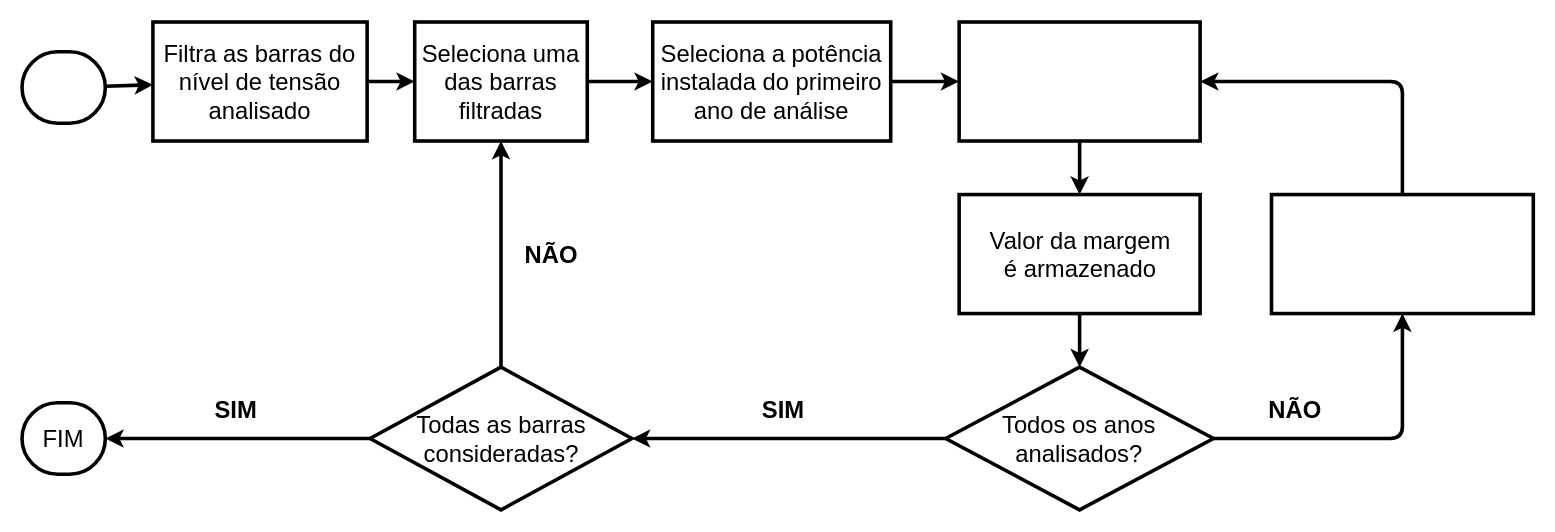
This 1555x532 diagram has some shape labels left out. Each missing label, with the centre of its shape:
Determina o valor da margem a partir da potência limite da barra em foco: (1079,81)
INÍCIO: (63,86)
Seleciona o valor de potência instalada correspondente ao ano seguinte: (1402,253)
